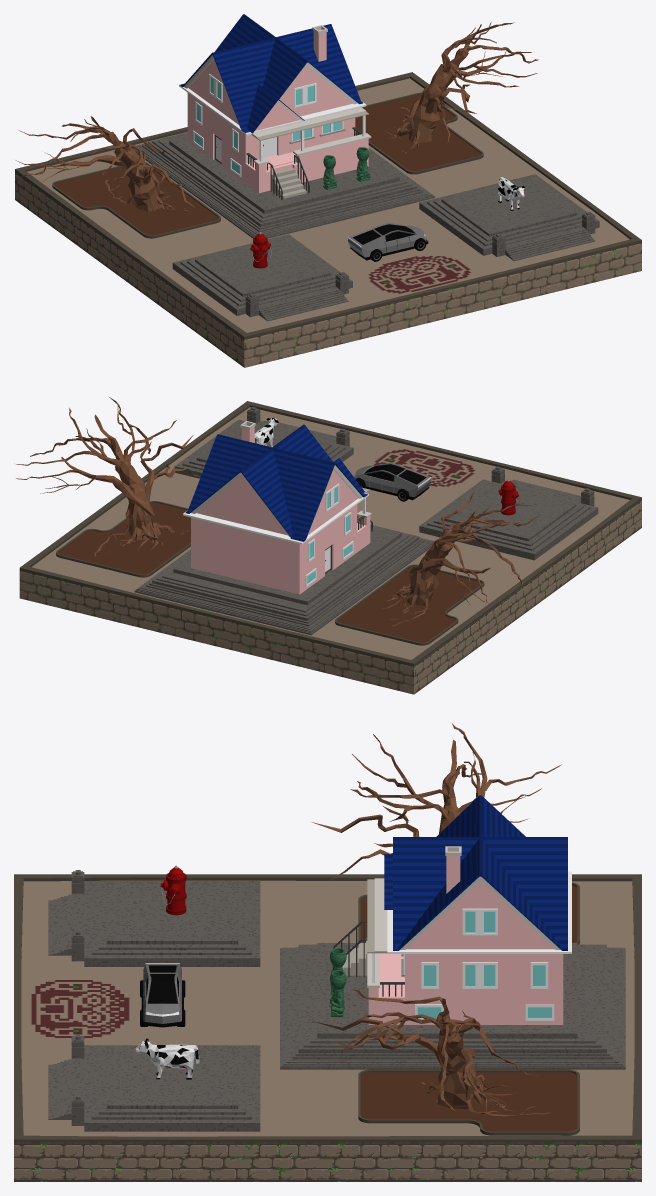
3 renders of one model, top to bottom at view 1: azimuth 30°, elevation 25°; view 2: azimuth 150°, elevation 25°; view 3: azimuth 270°, elevation 25°, orthographic. The views are drawn at different scales.
Visible parts, largest first — view 1: Cube.011, Cube.313, VEHICLES_CYBERTRUCK, ANIMAL_VACA, OBJRANDOM_FIRE_HYDRANT; view 2: Cube.011, Cube.313, VEHICLES_CYBERTRUCK, OBJRANDOM_FIRE_HYDRANT; view 3: Cube.011, Cube.313, VEHICLES_CYBERTRUCK, ANIMAL_VACA, OBJRANDOM_FIRE_HYDRANT.
Boxes of the visible parts, x1,y1,x2,y2 form: Cube.011: (15, 22, 641, 367); Cube.313: (179, 14, 371, 199); VEHICLES_CYBERTRUCK: (348, 223, 428, 261); ANIMAL_VACA: (497, 177, 524, 210); OBJRANDOM_FIRE_HYDRANT: (250, 232, 271, 268); Cube.011: (14, 397, 641, 694); Cube.313: (183, 421, 372, 594); VEHICLES_CYBERTRUCK: (353, 463, 431, 501); OBJRANDOM_FIRE_HYDRANT: (498, 479, 519, 515); Cube.011: (14, 723, 641, 1181); Cube.313: (333, 795, 571, 1024); VEHICLES_CYBERTRUCK: (140, 963, 185, 1027); ANIMAL_VACA: (134, 1038, 199, 1079); OBJRANDOM_FIRE_HYDRANT: (160, 865, 186, 915).
Size of the model in its own units: 5099 by 1812 by 4000.
31 materials, 5 textured.
